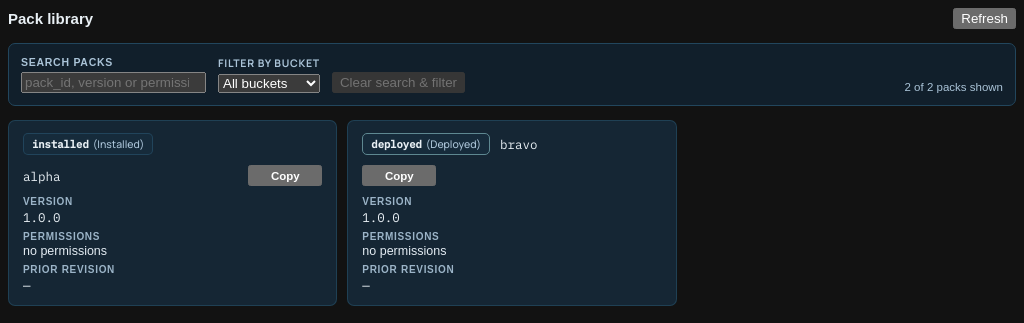
PackLibrary click-to-copy pack_id › copies the clicked row's pack_id and shows Copied feedback on that row
Expected: the list with test id "pack-library-list" is shown, [8,120,677,306]
Click the button with test id "pack-library-copy-alpha" at (285, 176), box [248,165,322,186]
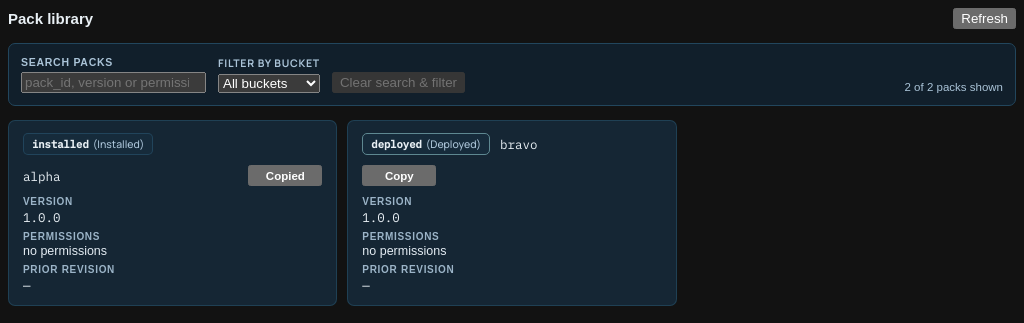
Expected: the text with test id "pack-library-copy-feedback-bravo" reads "Copy", [385,170,414,182]
Expected: the text with test id "pack-library-copy-feedback-alpha" reads "Copied", [266,170,305,182]
